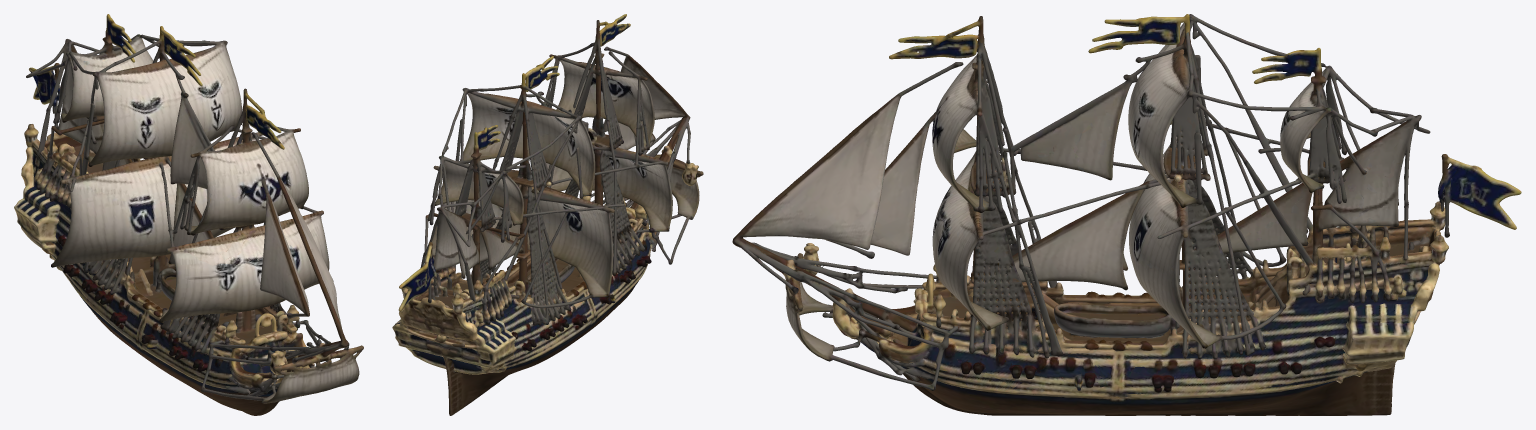
File: Imperial Ship.glb
The picture shows the model from 3 angles, left to right: view 1: azimuth 30°, elevation 25°; view 2: azimuth 150°, elevation 25°; view 3: azimuth 270°, elevation 25°; orthographic projection. The views are drawn at different scales.
Parts seen in each view (by area): view 1: geometry_0; view 2: geometry_0; view 3: geometry_0.
Boxes of the visible parts, left/top/right/bottom form: geometry_0: left=14, top=14, right=363, bottom=415; geometry_0: left=392, top=14, right=703, bottom=415; geometry_0: left=732, top=14, right=1521, bottom=415.
Bounding box in the file's own units: 0.3742 × 0.5621 × 1.
1 material, 1 textured.
